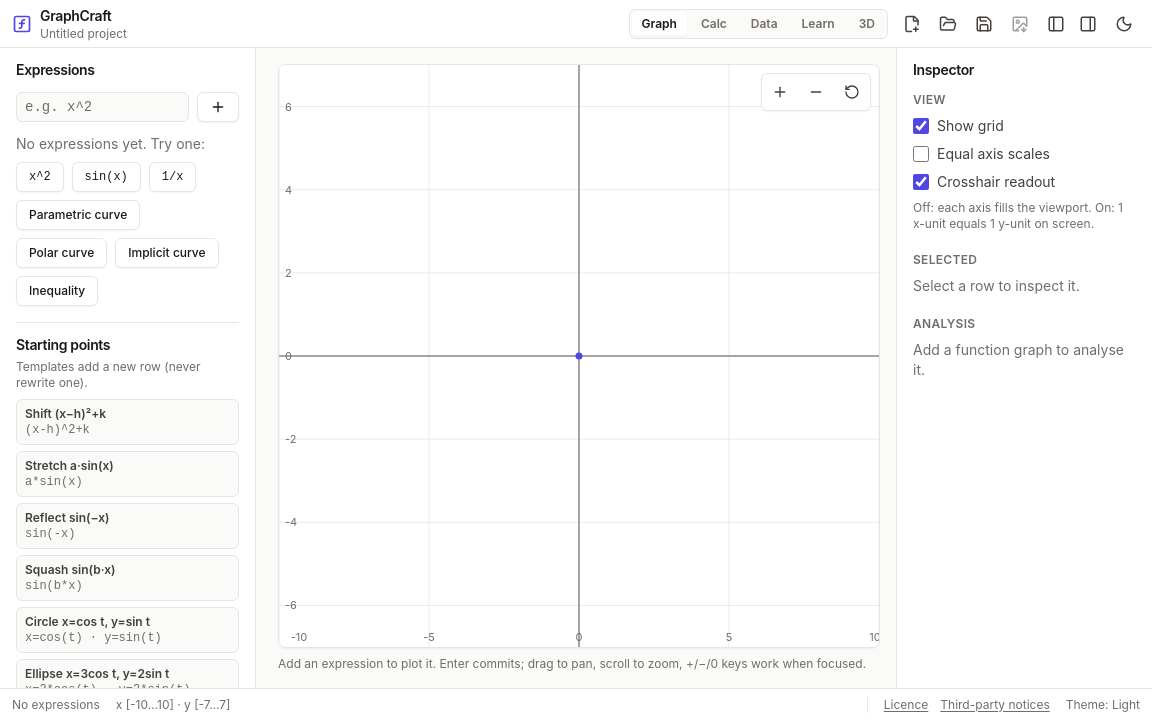
analysis integration › draws the tangent to x^2 at x = 2 at the expected location
Type "x^2" into the field named "New expression" at (102, 107), box [16,92,189,122]
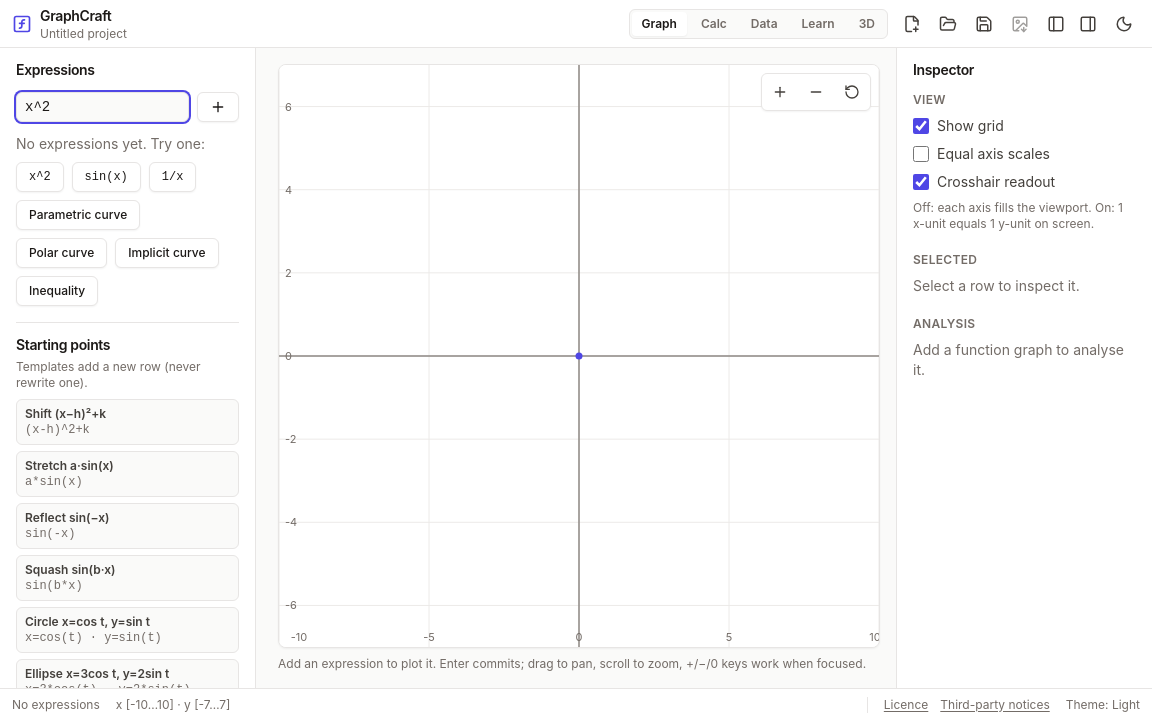
Press Enter
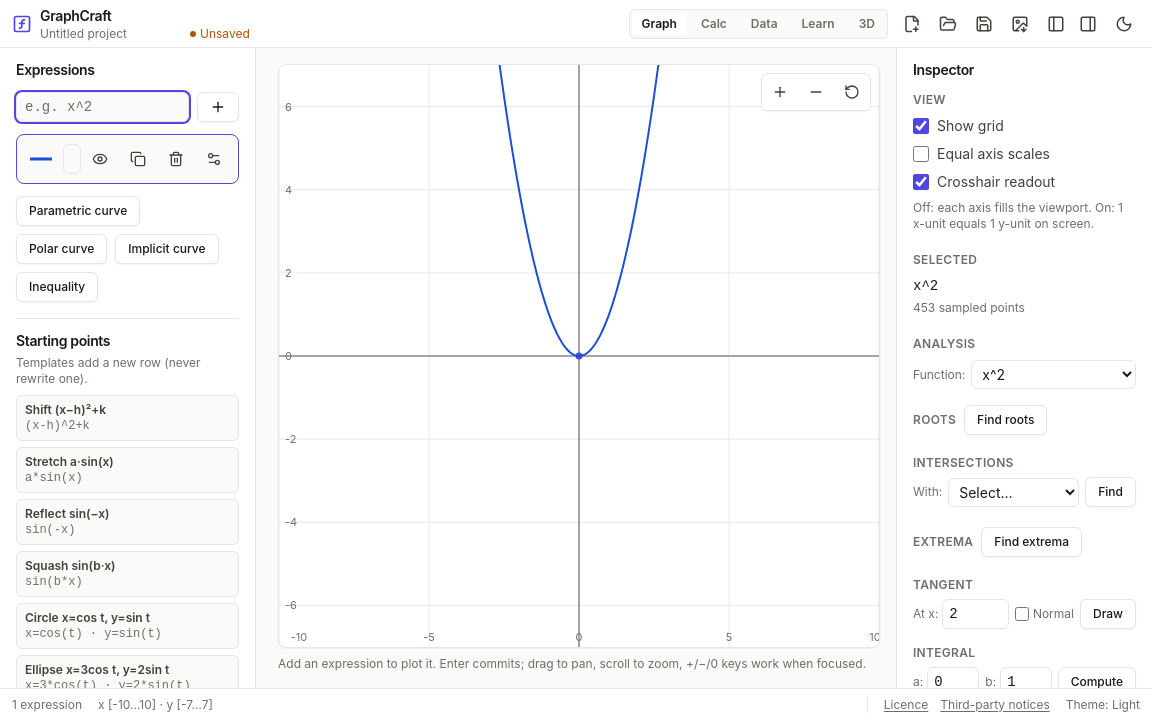
Click the button "Draw" at (1108, 614), box [1080,599,1136,629]
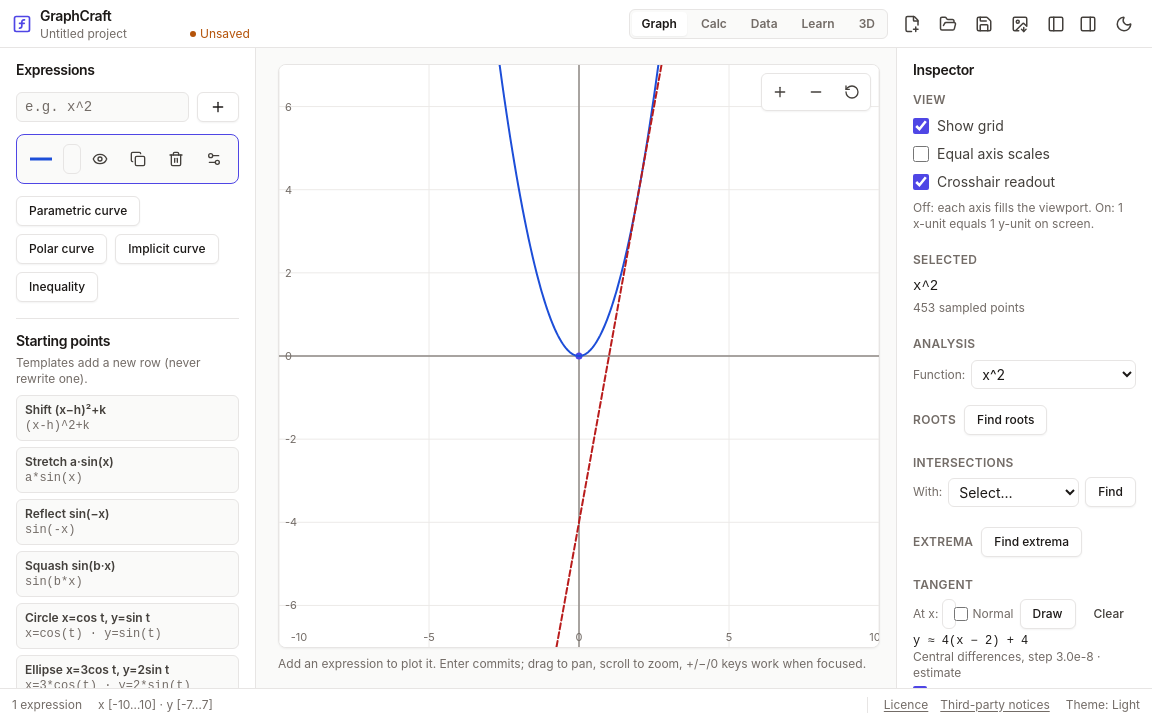
Now the text "y ≈ 4(x − 2) + 4" is shown, box [913,634,1028,648]
